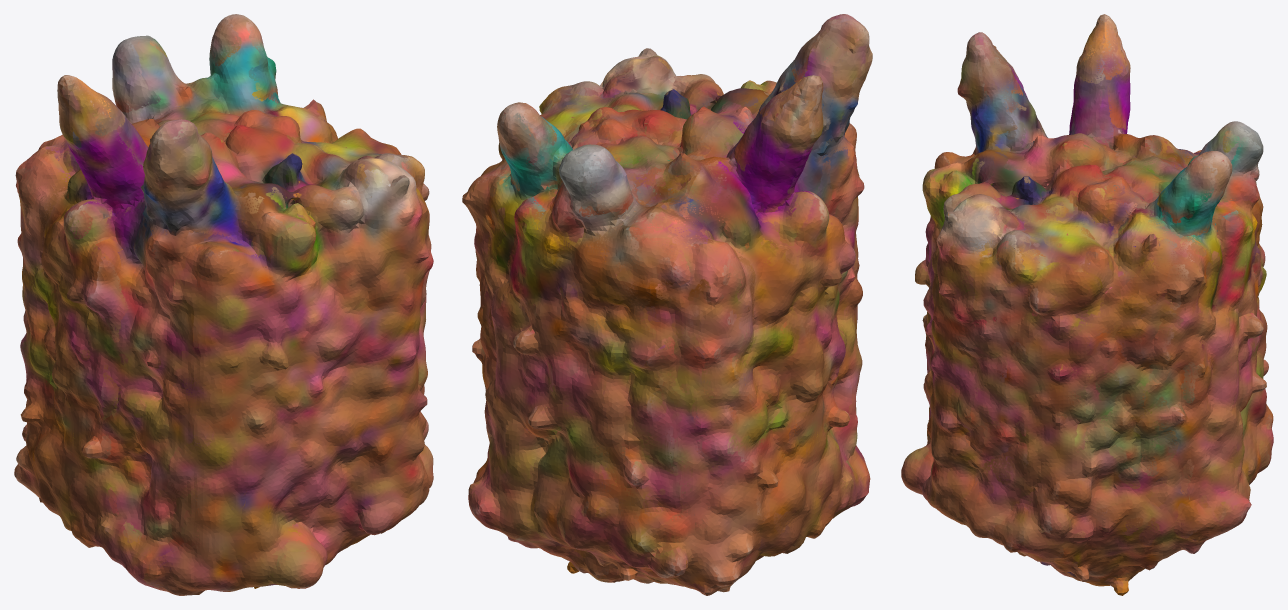
Rendered from Brown_pen_holder_DG.glb.
The picture shows the model from 3 angles, left to right: view 1: azimuth 30°, elevation 25°; view 2: azimuth 150°, elevation 25°; view 3: azimuth 270°, elevation 25°; orthographic projection. The views are drawn at different scales.
Bounding box in the file's own units: 1.42 × 2.11 × 1.48.
1 material, 1 textured.
